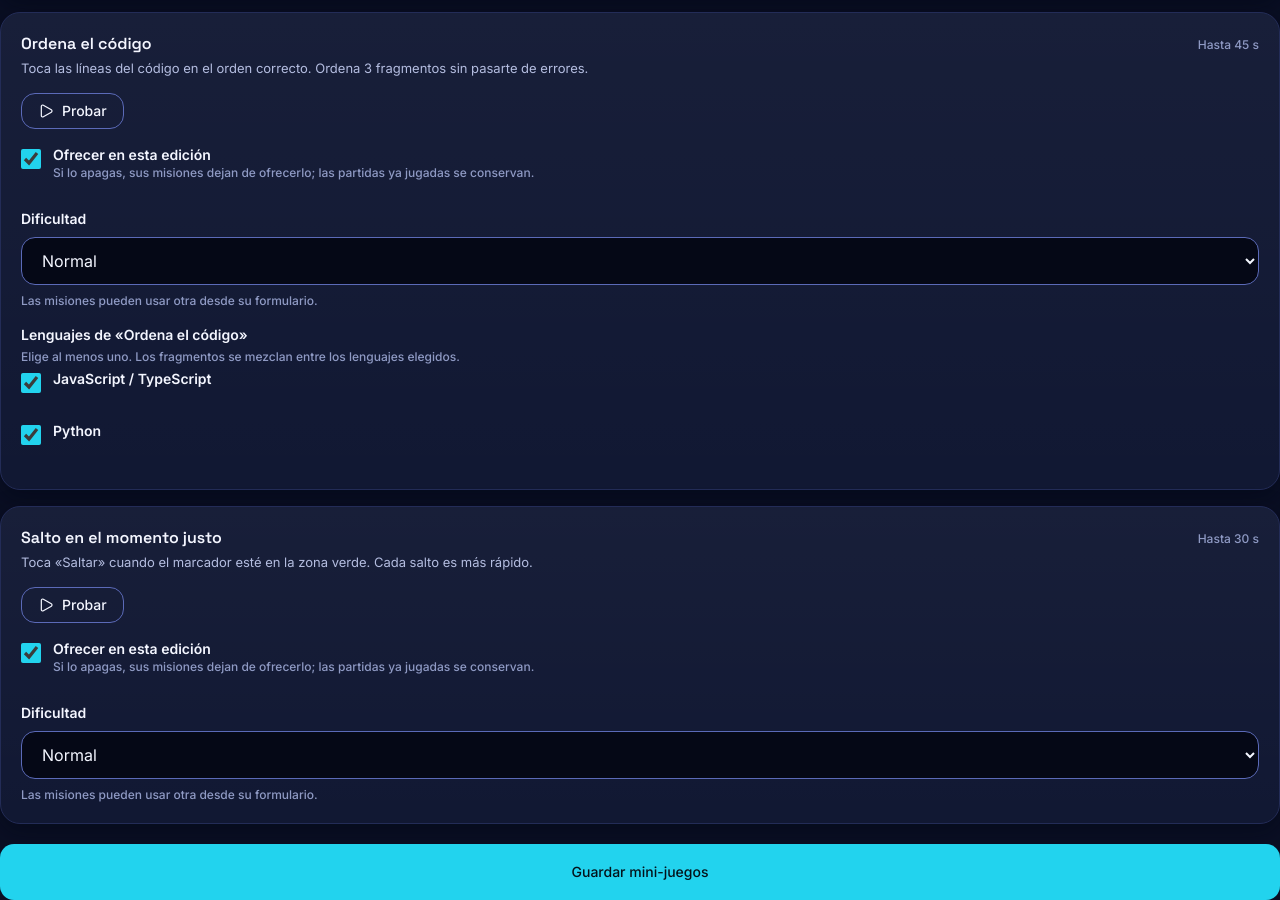
Test case: MinigameSettingsView › says when a game cannot be tried yet
(page scrolled)
Click the button "Probar" below "Salto en el momento justo".
click(72, 605)  # box [21,587,124,623]
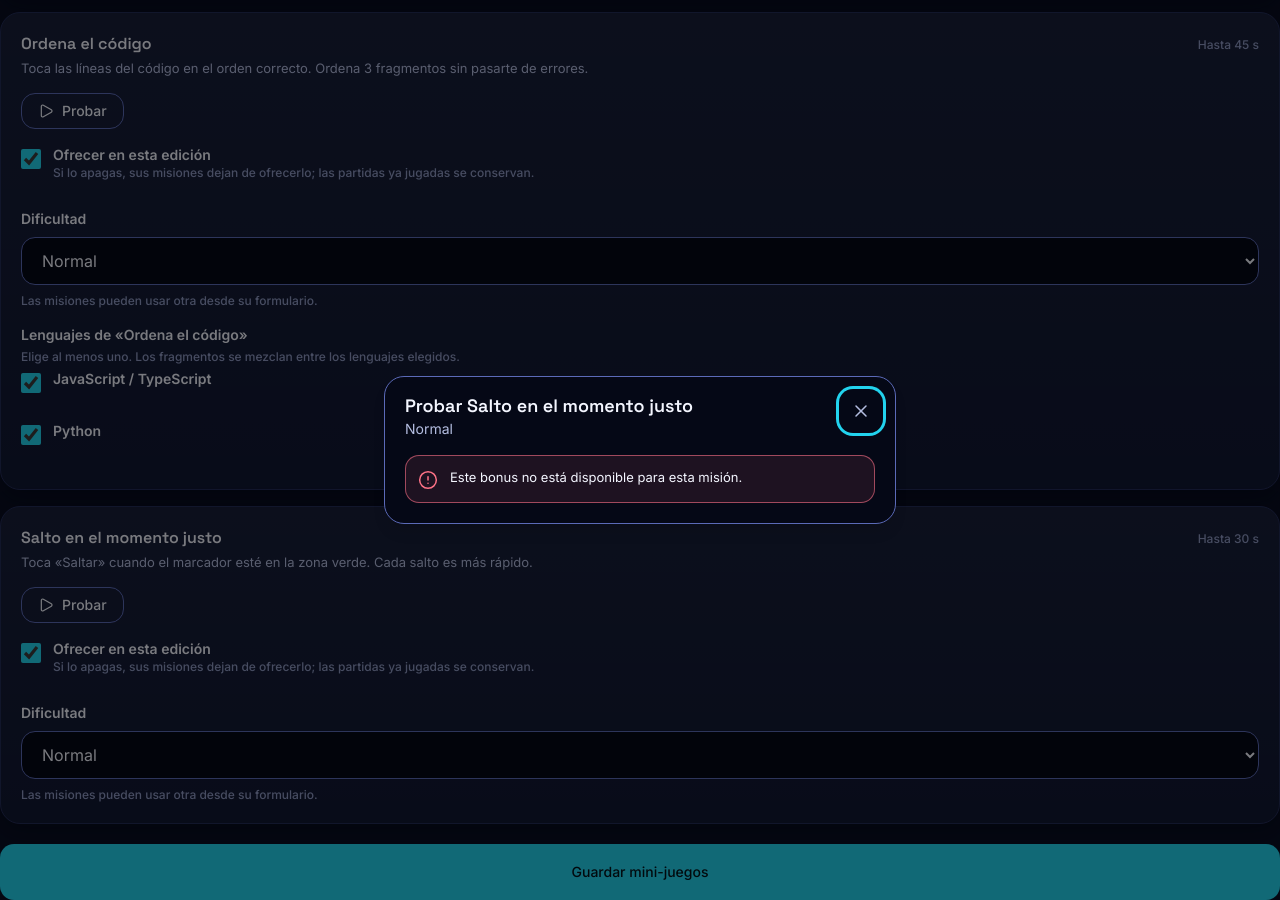
Expected: the text "Este bonus no está disponible para esta misión." is shown, [450,468,742,486]
